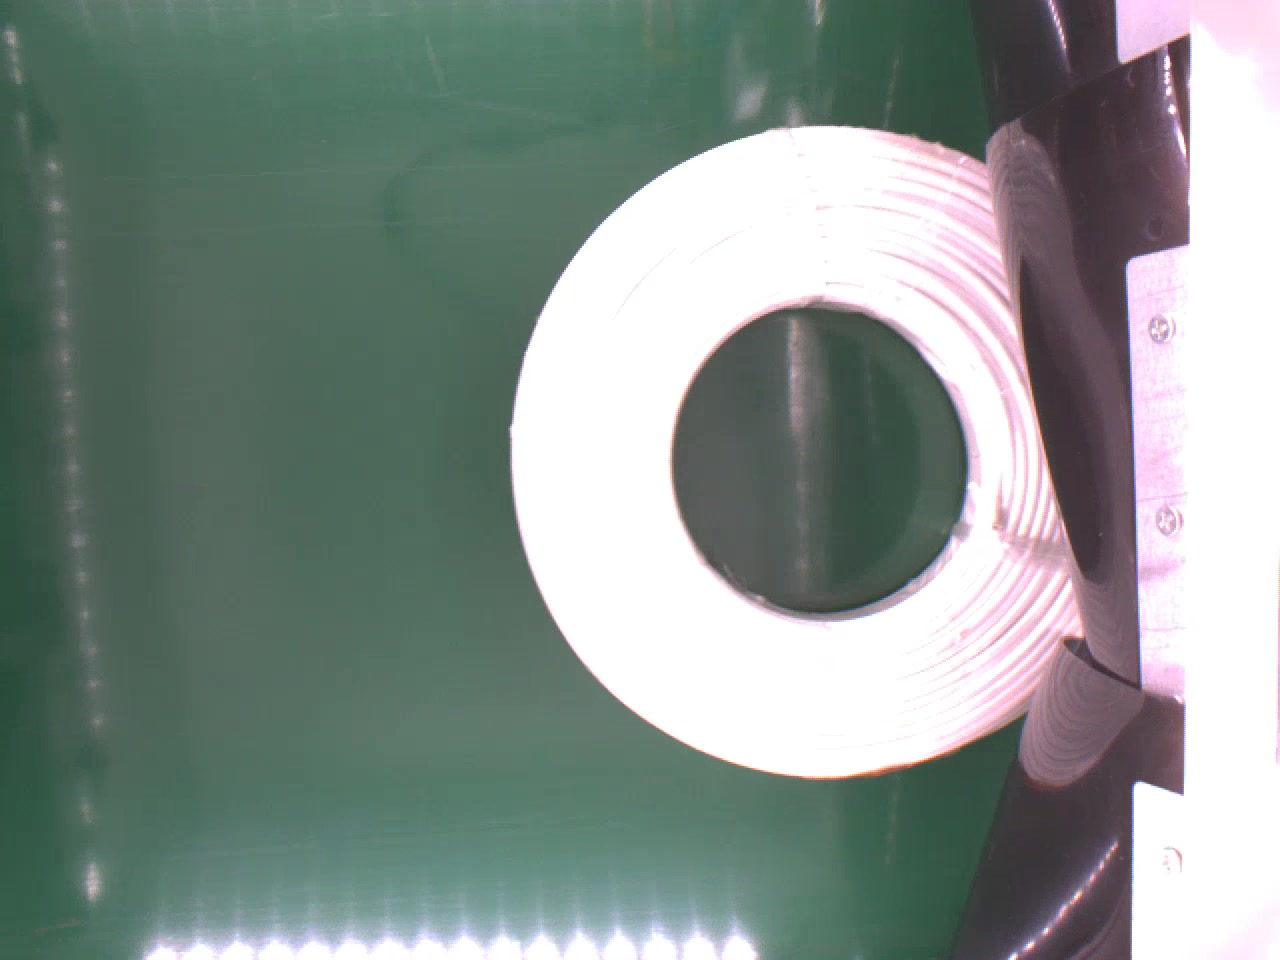white: (511, 124, 1083, 783)
